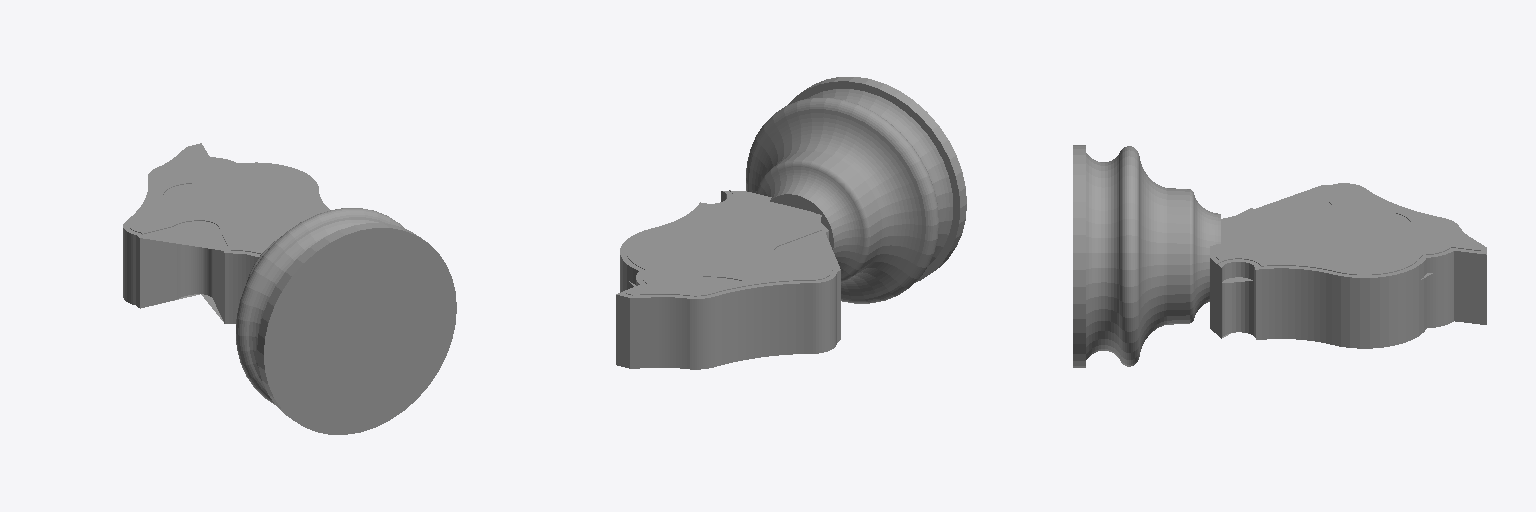
The model's file is cavalo.obj.
3 views of the same model, side by side, from view 1: azimuth 30°, elevation 25°; view 2: azimuth 150°, elevation 25°; view 3: azimuth 270°, elevation 25° (orthographic).
Parts seen in each view (by area): view 1: Mesh1_Group2_Group1_Model, Mesh2_Group1_Model; view 2: Mesh2_Group1_Model, Mesh1_Group2_Group1_Model; view 3: Mesh2_Group1_Model, Mesh1_Group2_Group1_Model.
Part boxes in pixels (bbox=[...]): Mesh1_Group2_Group1_Model: bbox=[236, 208, 456, 434]; Mesh2_Group1_Model: bbox=[123, 143, 329, 323]; Mesh2_Group1_Model: bbox=[616, 190, 840, 369]; Mesh1_Group2_Group1_Model: bbox=[746, 77, 966, 303]; Mesh2_Group1_Model: bbox=[1210, 183, 1486, 348]; Mesh1_Group2_Group1_Model: bbox=[1073, 145, 1220, 367].
Bounding box in the file's own units: 0.2629 × 0.2604 × 0.4829.